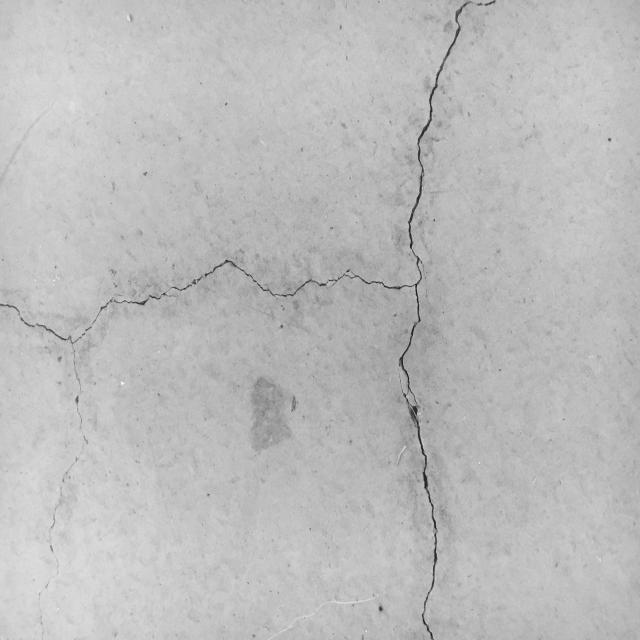SurfaceCrack: (350, 0, 513, 640), (0, 232, 564, 373)
